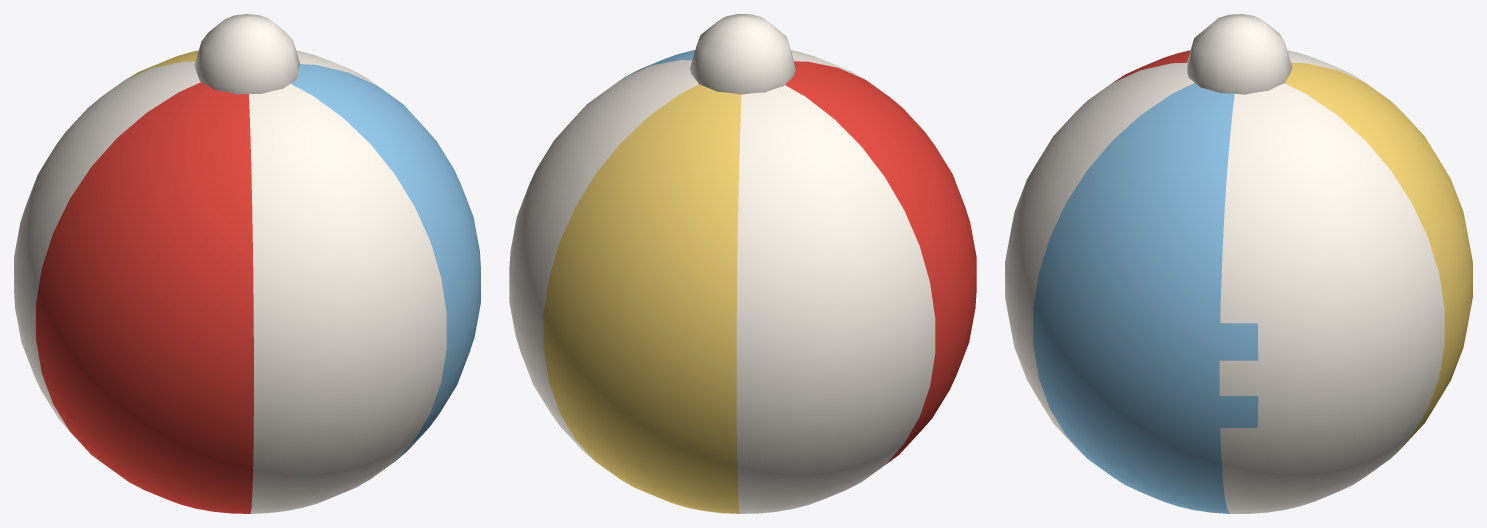
Rendered from beach_ball.glb.
3 views of the same model, side by side, from view 1: azimuth 30°, elevation 25°; view 2: azimuth 150°, elevation 25°; view 3: azimuth 270°, elevation 25° (orthographic).
Parts seen in each view (by area): view 1: beach_ball; view 2: beach_ball; view 3: beach_ball.
Boxes of the visible parts, box(x1,y1,x2,y2) form: beach_ball: box(14, 14, 480, 513); beach_ball: box(509, 14, 976, 513); beach_ball: box(1005, 14, 1472, 513).
Size of the model in its own units: 0.437 by 0.49 by 0.4385.
Materials: 1 (1 with a texture image).
